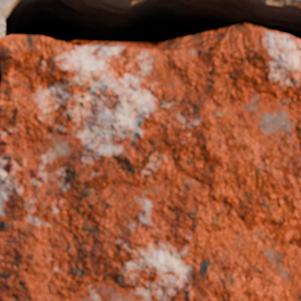brick: (0, 25, 300, 300)
crack: (0, 0, 300, 51), (0, 61, 2, 88)
